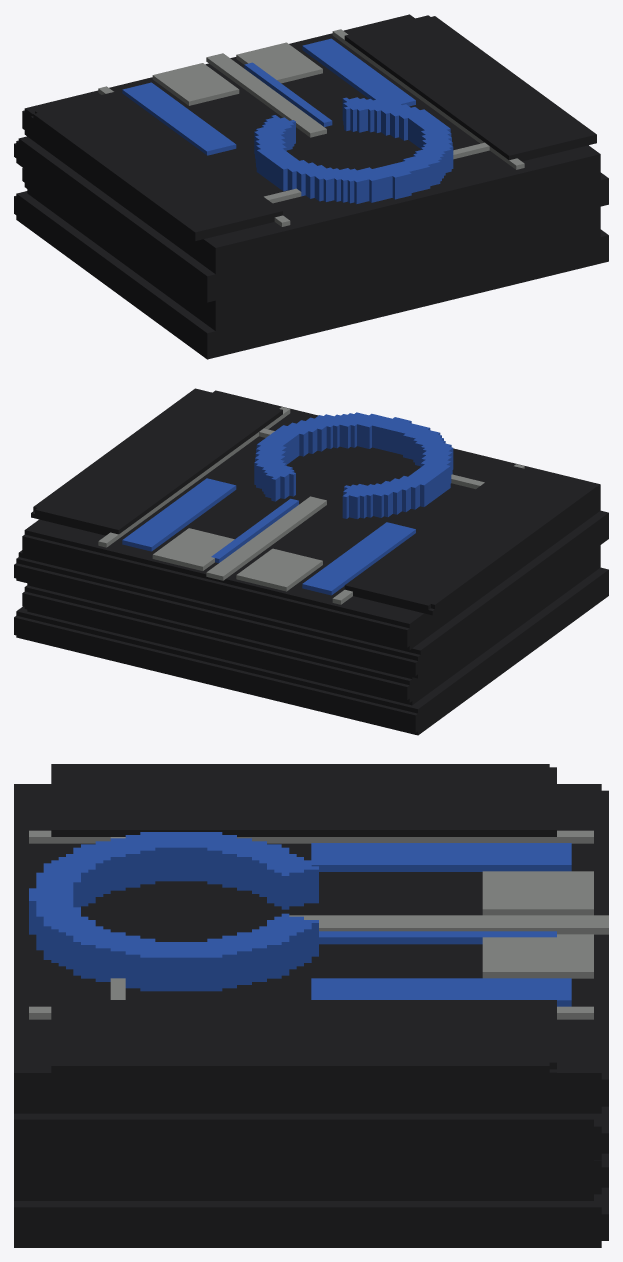
The model's file is wetsuit.glb.
The picture shows the model from 3 angles, top to bottom: view 1: azimuth 30°, elevation 25°; view 2: azimuth 150°, elevation 25°; view 3: azimuth 270°, elevation 25°; orthographic projection. The views are drawn at different scales.
Parts seen in each view (by area): view 1: wetsuit:compound; view 2: wetsuit:compound; view 3: wetsuit:compound.
Boxes of the visible parts, box(x1,y1,x2,y2) form: wetsuit:compound: box(14, 14, 608, 359); wetsuit:compound: box(14, 388, 608, 735); wetsuit:compound: box(14, 764, 608, 1247).
Size of the model in its own units: 0.384 by 0.12 by 0.32.
